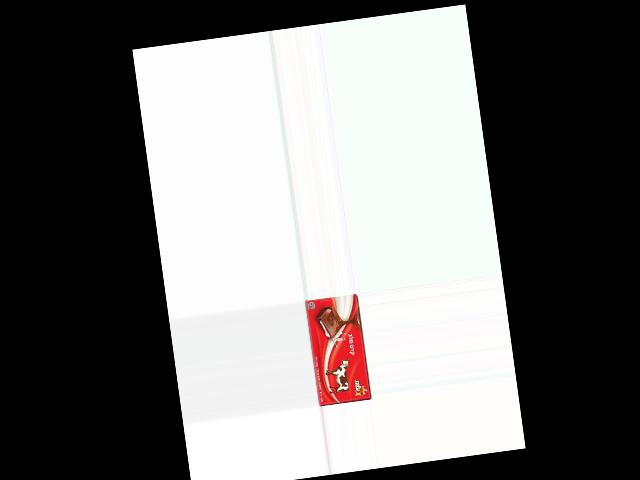chocolate: (304, 293, 371, 408)
